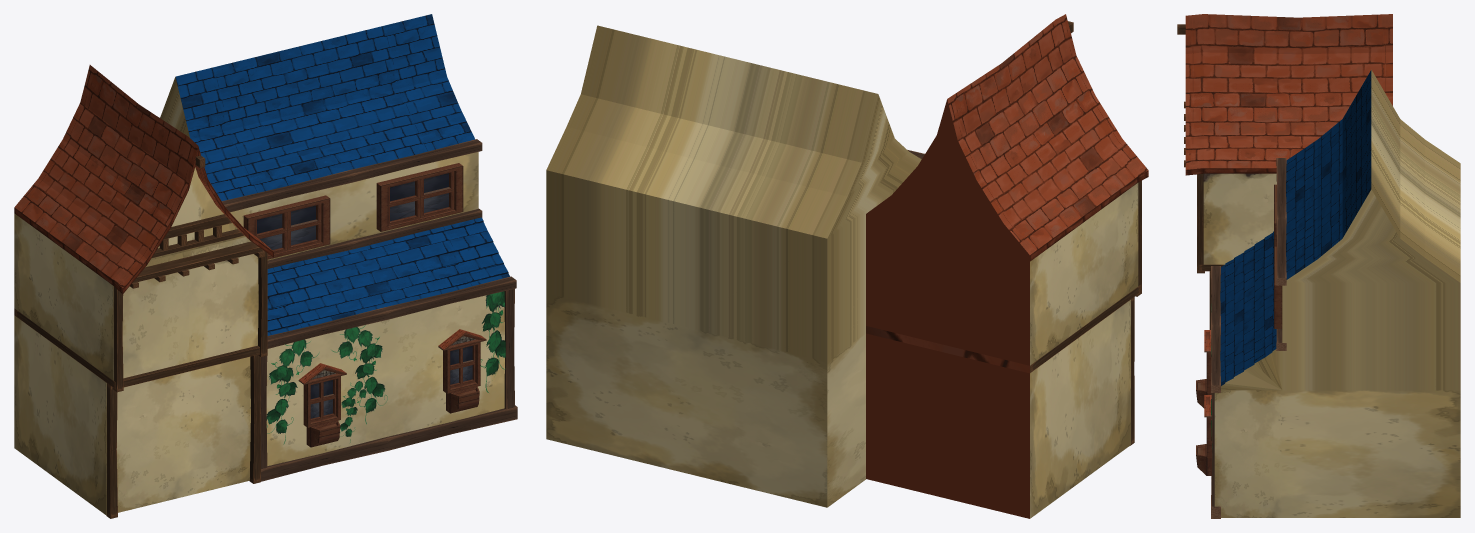
File: bldgTest.fbx
3 views of the same model, side by side, from view 1: azimuth 30°, elevation 25°; view 2: azimuth 150°, elevation 25°; view 3: azimuth 270°, elevation 25° (orthographic). The views are drawn at different scales.
Visible parts, largest first — view 1: Cube, Cube.007, Cube.008, Cube.014, Cube.015, Cube.012, Cube.018, Cube.016, Cube.009, Cube.010, Cube.017, Plane (+8 smaller); view 2: Cube.007, Cube, Cube.008; view 3: Cube.007, Cube, Cube.018, Cube.016, Cube.008, Cube.010, Cube.009, Cube.014, Cube.013.
Part boxes in pixels (x1=…): Cube: x1=14, y1=65, x2=273, y2=515; Cube.007: x1=160, y1=14, x2=509, y2=465; Cube.008: x1=106, y1=251, x2=267, y2=518; Cube.014: x1=376, y1=163, x2=463, y2=231; Cube.015: x1=243, y1=195, x2=330, y2=259; Cube.012: x1=261, y1=405, x2=517, y2=481; Cube.018: x1=222, y1=139, x2=482, y2=212; Cube.016: x1=267, y1=276, x2=516, y2=348; Cube.009: x1=298, y1=363, x2=346, y2=447; Cube.010: x1=438, y1=329, x2=486, y2=413; Cube.017: x1=267, y1=208, x2=482, y2=268; Plane: x1=331, y1=325, x2=387, y2=424; Cube.007: x1=546, y1=25, x2=921, y2=507; Cube: x1=866, y1=14, x2=1148, y2=518; Cube.008: x1=1130, y1=180, x2=1141, y2=445; Cube.007: x1=1214, y1=70, x2=1460, y2=517; Cube: x1=1185, y1=14, x2=1392, y2=271; Cube.018: x1=1276, y1=158, x2=1286, y2=285; Cube.016: x1=1211, y1=266, x2=1220, y2=392; Cube.008: x1=1197, y1=174, x2=1211, y2=329; Cube.010: x1=1196, y1=395, x2=1211, y2=475; Cube.009: x1=1196, y1=330, x2=1211, y2=408; Cube.014: x1=1274, y1=246, x2=1282, y2=328; Cube.013: x1=1211, y1=393, x2=1214, y2=506.
Size of the model in its own units: 1545 by 1325 by 972.
